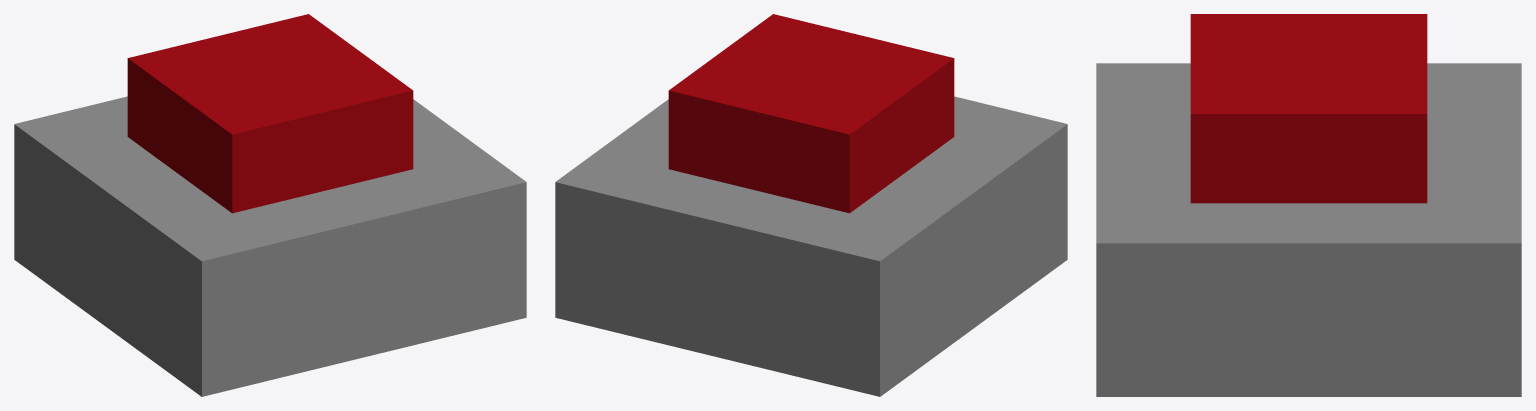
The model's file is schalter02.fbx.
3 renders of one model, left to right at view 1: azimuth 30°, elevation 25°; view 2: azimuth 150°, elevation 25°; view 3: azimuth 270°, elevation 25°, orthographic. The views are drawn at different scales.
Parts seen in each view (by area): view 1: Cube.001, animation; view 2: Cube.001, animation; view 3: Cube.001, animation.
Boxes of the visible parts, x1,y1,x2,y2 form: Cube.001: [14, 96, 526, 396]; animation: [127, 14, 413, 213]; Cube.001: [555, 96, 1067, 396]; animation: [668, 14, 954, 213]; Cube.001: [1096, 63, 1521, 396]; animation: [1190, 14, 1427, 203].
Bounding box in the file's own units: 44.51 × 28.07 × 44.51.
